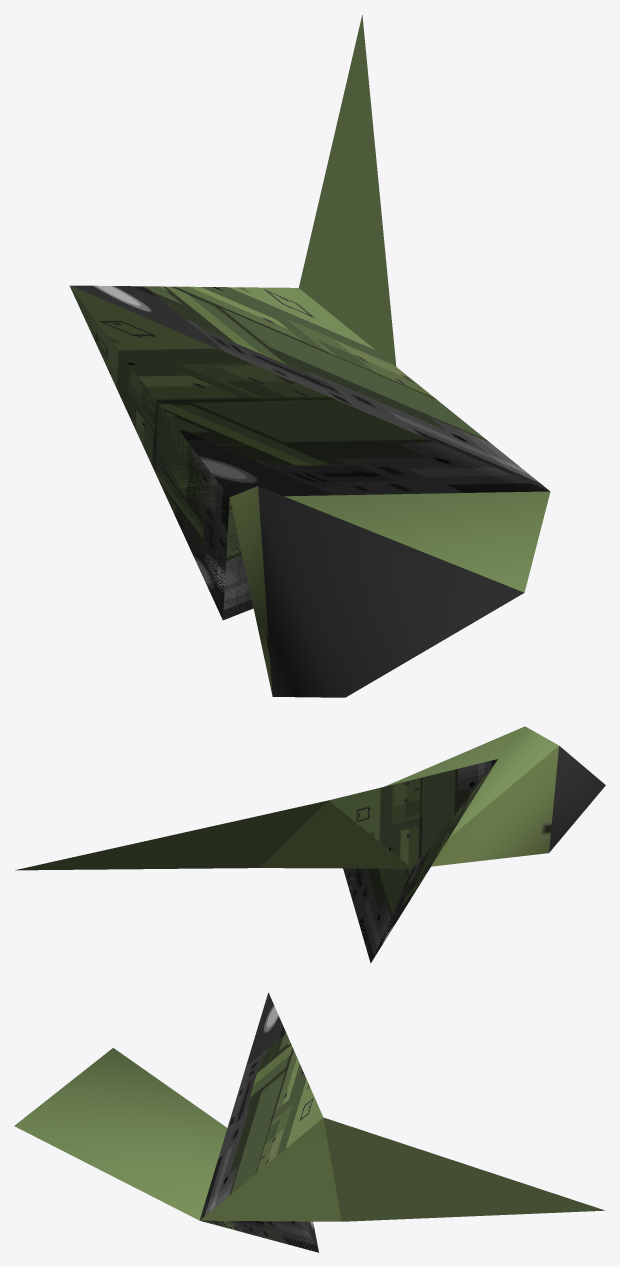
The model's file is Heli.fbx.
3 views of the same model, one above another, from view 1: azimuth 30°, elevation 25°; view 2: azimuth 150°, elevation 25°; view 3: azimuth 270°, elevation 25° (orthographic). The views are drawn at different scales.
Parts seen in each view (by area): view 1: Heli_cell.017; view 2: Heli_cell.017; view 3: Heli_cell.017.
Part boxes in pixels (<box>): Heli_cell.017: <box>70,15,550,697</box>; Heli_cell.017: <box>15,726,605,962</box>; Heli_cell.017: <box>14,992,604,1252</box>.
Size of the model in its own units: 1.81 by 1.16 by 2.94.
